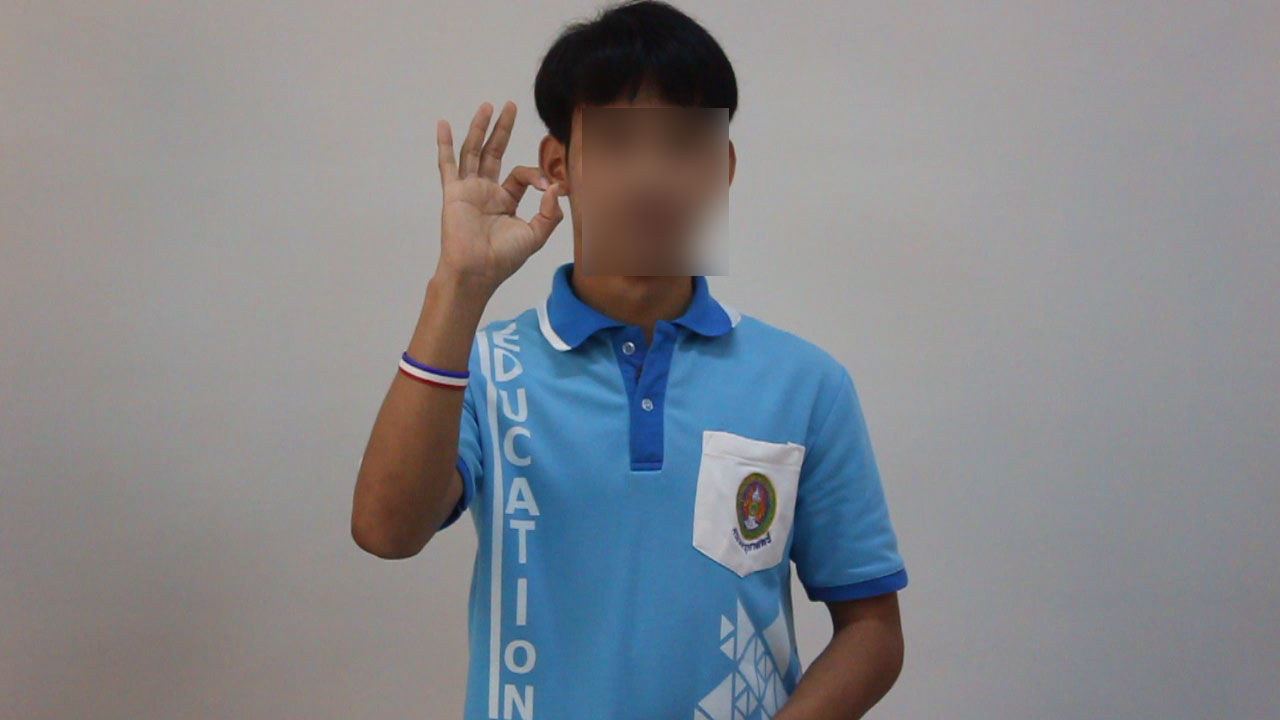for: (412, 92, 573, 310)
